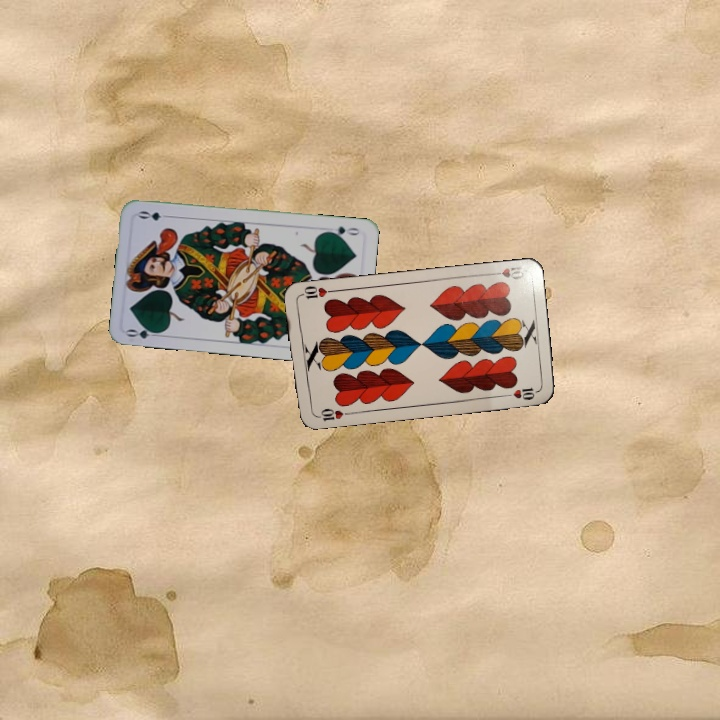GO: (123, 322, 164, 341), (322, 222, 362, 239)
H10: (486, 262, 527, 282), (311, 404, 352, 424)
